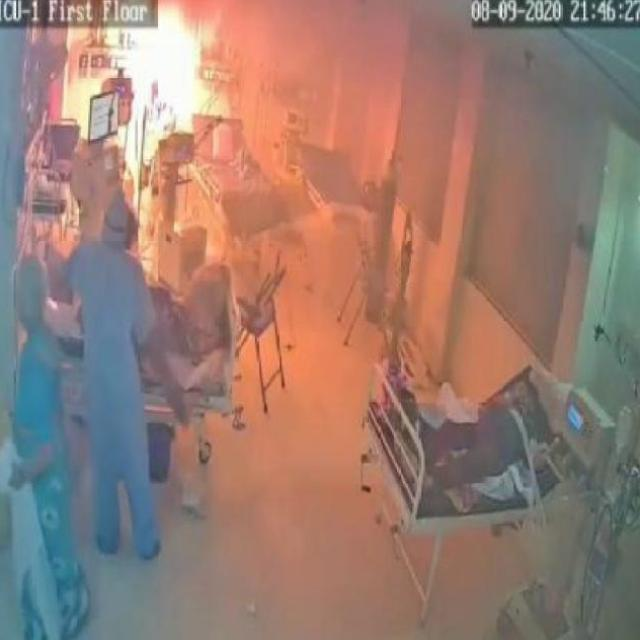smoke: (106, 2, 216, 154)
